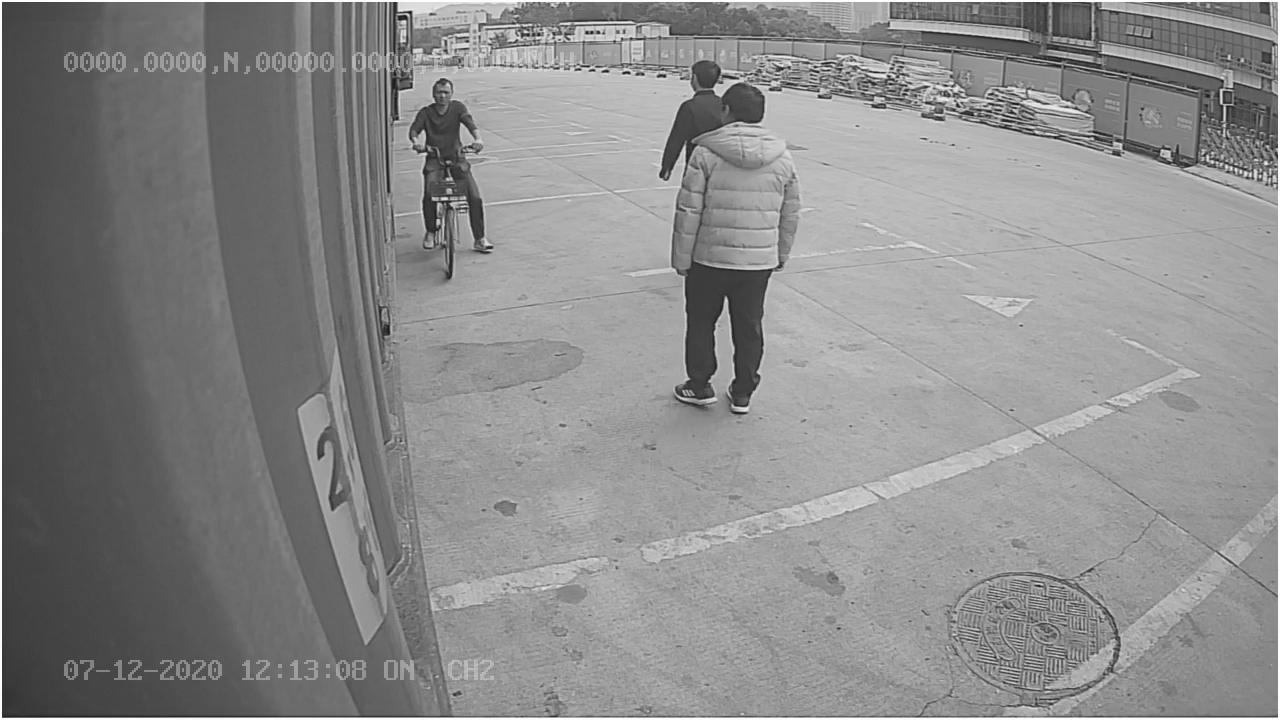person: (668, 84, 800, 411)
